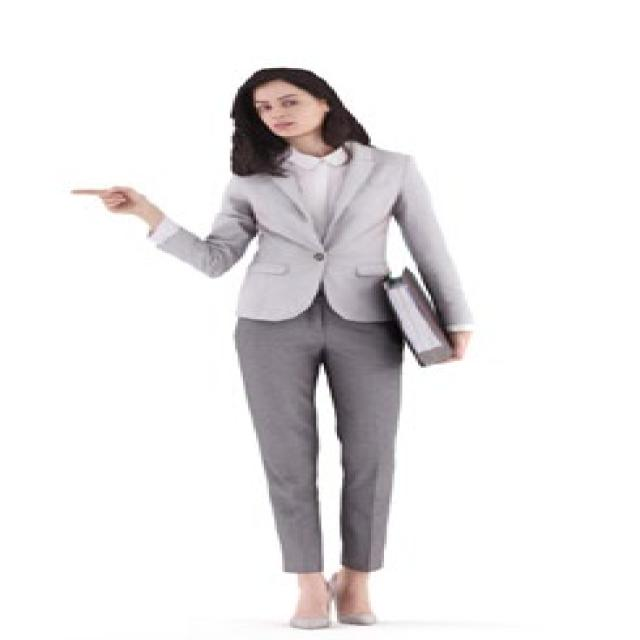standing: (61, 66, 480, 631)
